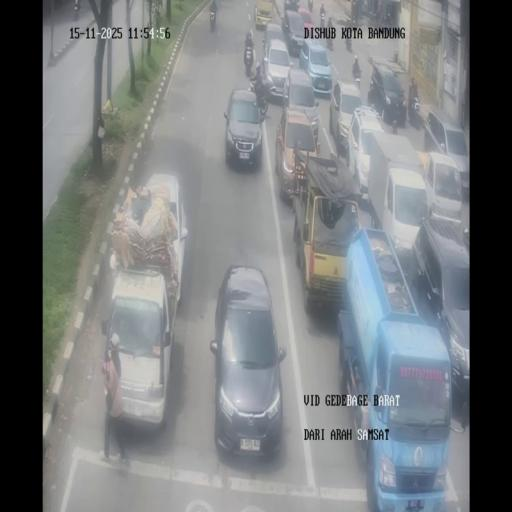car: (211, 263, 286, 459), (102, 264, 173, 432), (139, 173, 189, 310), (275, 105, 319, 202), (423, 110, 469, 198), (369, 61, 407, 126), (330, 77, 362, 154), (260, 28, 292, 101), (299, 38, 332, 96), (282, 10, 308, 57), (254, 0, 274, 29), (284, 0, 300, 11)
motorcycle: (408, 91, 424, 129), (250, 83, 268, 115), (243, 44, 255, 76), (462, 226, 469, 260), (326, 24, 334, 51), (368, 7, 379, 25), (209, 7, 217, 31), (353, 69, 361, 92), (272, 0, 282, 18), (378, 3, 385, 24), (345, 32, 352, 52), (73, 0, 80, 19), (320, 11, 326, 28), (370, 103, 378, 115), (379, 107, 386, 120), (386, 11, 392, 26), (308, 0, 314, 12), (262, 35, 266, 52)
truck: (336, 232, 450, 504), (294, 155, 360, 314), (362, 130, 428, 251)
